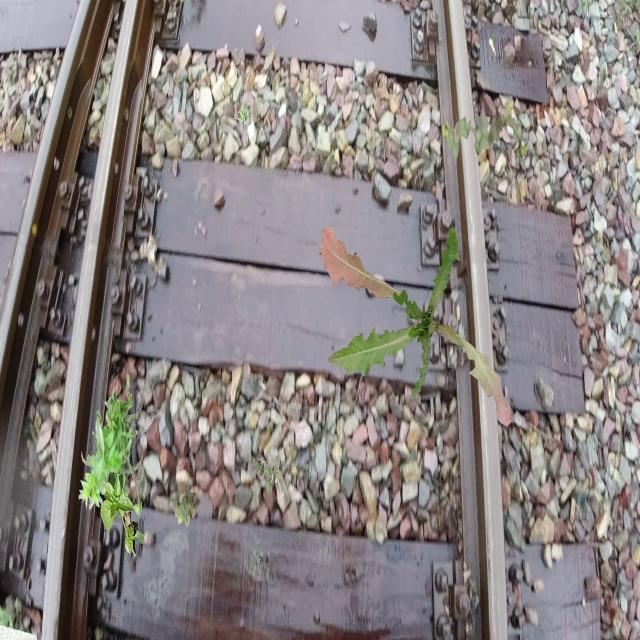Plant: (320, 225, 512, 428), (79, 374, 144, 518), (442, 99, 528, 168), (97, 462, 145, 557), (254, 453, 282, 494), (170, 485, 196, 528), (235, 101, 249, 122)
